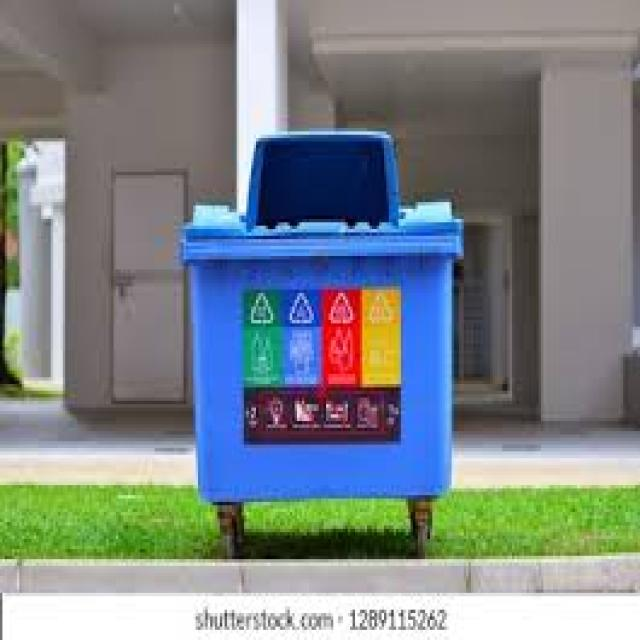bin_empty: (180, 131, 462, 556)
